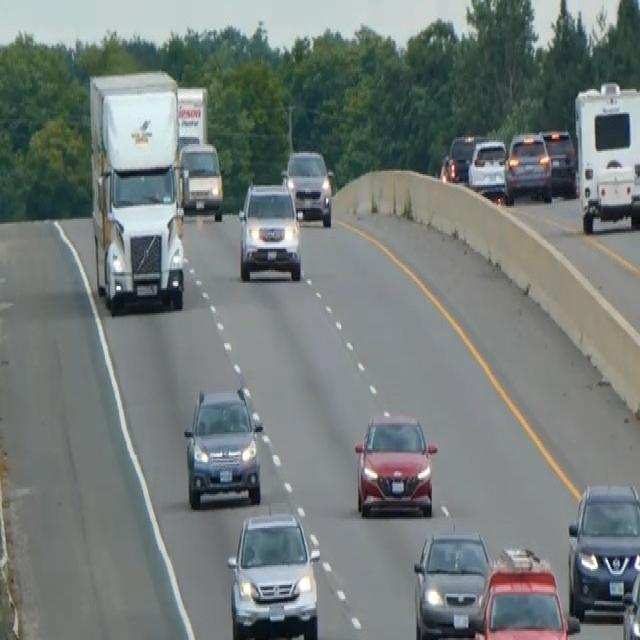car: (226, 508, 321, 638), (468, 544, 580, 638), (566, 480, 639, 620), (182, 384, 263, 508), (353, 409, 438, 517), (412, 526, 491, 638), (237, 180, 302, 282), (282, 147, 333, 225), (178, 140, 224, 220), (506, 130, 553, 202), (467, 137, 512, 203), (539, 126, 576, 196), (443, 132, 480, 183), (621, 551, 639, 638), (629, 156, 639, 228)
lorry: (87, 68, 186, 314)
